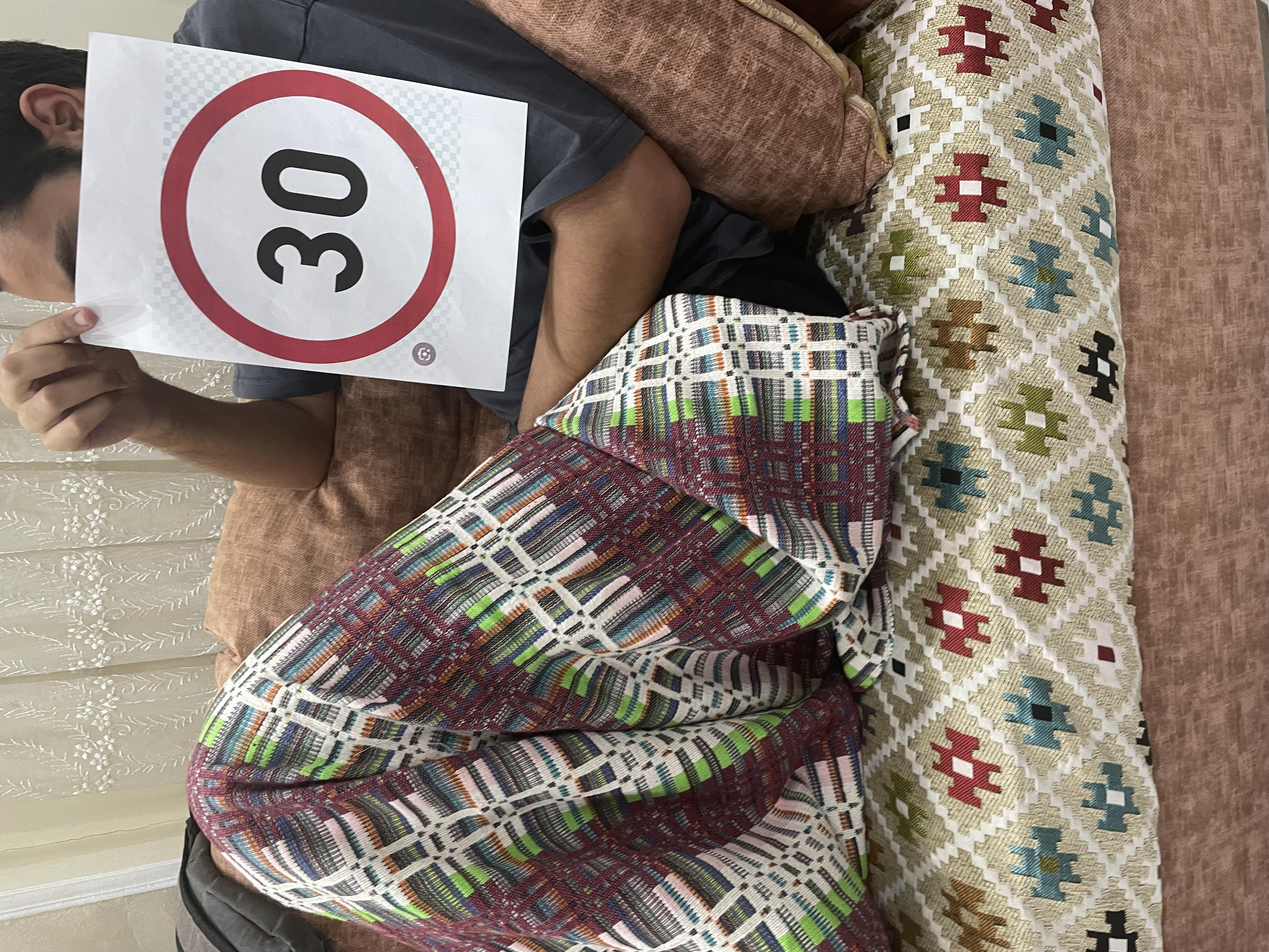30-speed: (771, 114, 1193, 343)
